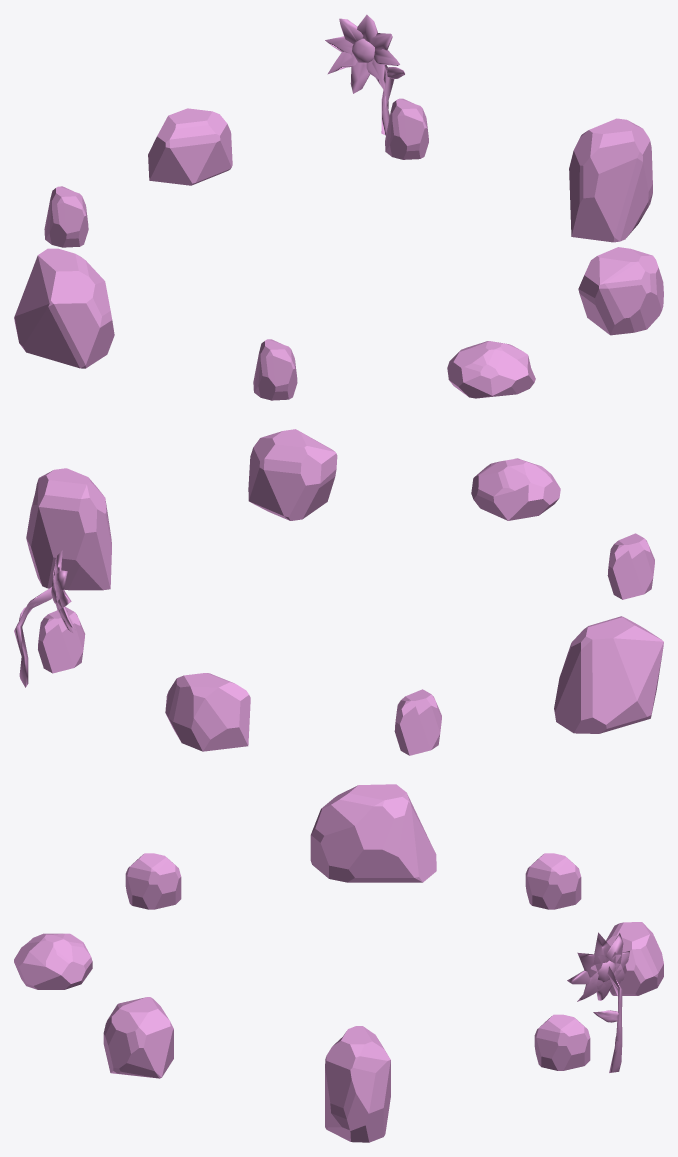
File: stoneformation.fbx
3 views of the same model, one above another, from view 1: azimuth 30°, elevation 25°; view 2: azimuth 150°, elevation 25°; view 3: azimuth 270°, elevation 25° (orthographic). The views are drawn at different scales.
Parts seen in each view (by area): view 1: Icosphere.005, Icosphere.004, Icosphere.003, Icosphere, Icosphere.001, Sphere.002, Icosphere.007, Icosphere.006, Icosphere.002; view 2: Icosphere.005, Icosphere.004, Icosphere.003, Icosphere, Icosphere.001, Icosphere.006, Icosphere.007, Icosphere.002, Sphere.002; view 3: Icosphere.005, Icosphere.004, Icosphere.003, Icosphere.001, Sphere.002, Icosphere, Icosphere.007, Icosphere.002, Icosphere.006.
Boxes of the visible parts, x1,y1,x2,y2 form: Icosphere.005: (14,248,114,368); Icosphere.004: (569,118,652,242); Icosphere.003: (578,247,663,335); Icosphere: (148,108,232,185); Icosphere.001: (447,341,535,398); Sphere.002: (325,14,404,135); Icosphere.007: (253,339,297,400); Icosphere.006: (44,186,88,247); Icosphere.002: (385,98,428,159); Icosphere.005: (554,616,663,733); Icosphere.004: (26,468,111,590); Icosphere.003: (248,429,337,520); Icosphere: (165,673,250,751); Icosphere.001: (471,458,560,520); Icosphere.006: (394,689,441,755); Icosphere.007: (607,533,654,599); Icosphere.002: (38,607,85,673); Sphere.002: (14,550,75,687); Icosphere.005: (310,784,436,882); Icosphere.004: (325,1026,390,1142); Icosphere.003: (103,997,173,1078); Icosphere.001: (14,933,92,989); Sphere.002: (567,932,629,1072); Icosphere: (606,922,663,995); Icosphere.007: (125,853,181,909); Icosphere.002: (534,1014,590,1070); Icosphere.006: (525,853,581,909).
Bounding box in the file's own units: 1363 × 315 × 1297.
